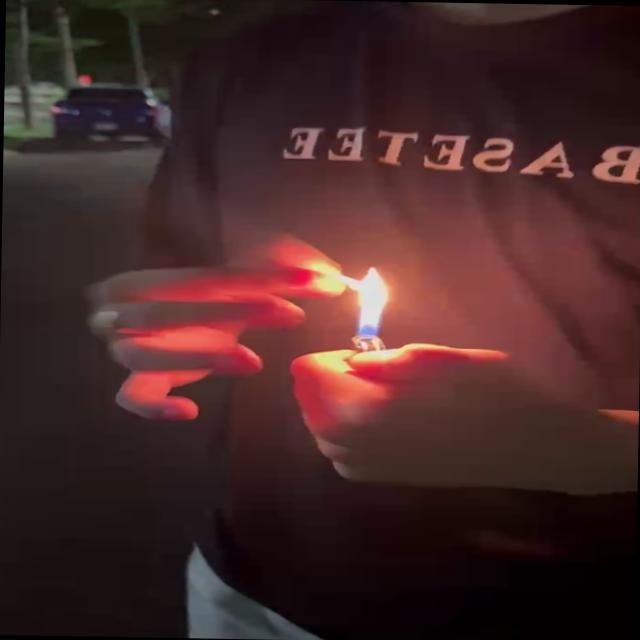Fire: (342, 264, 397, 341)
